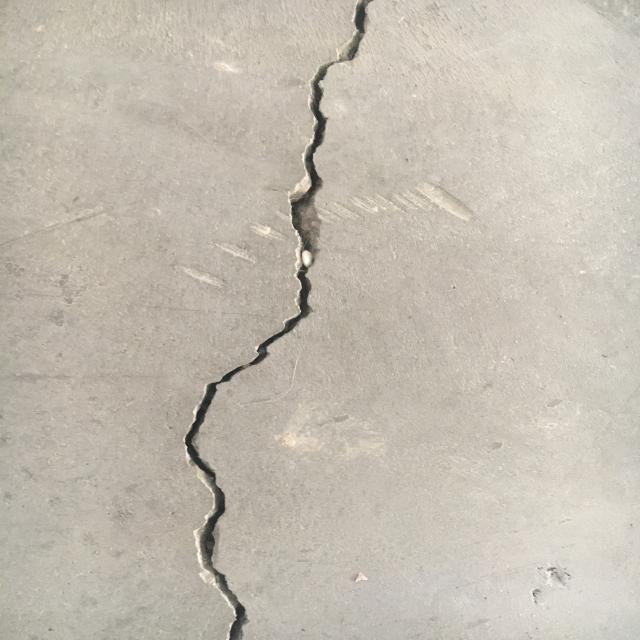Rachadura: (180, 0, 381, 640)
